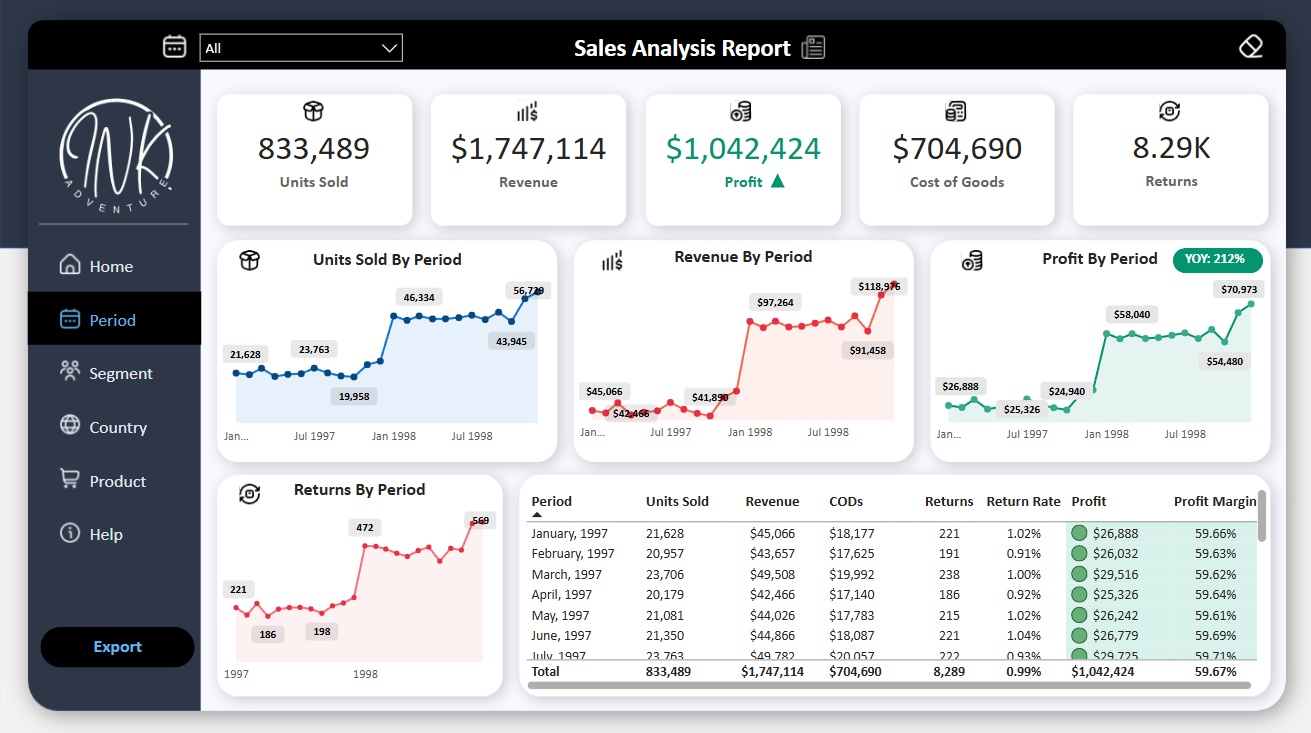

What the dashboard file says about the page in this screenshot:
{"tool":"powerbi","page":{"name":"Main page","canvas":[1280,720],"ordinal":0},"visuals":[{"type":"group","id":"g1","title":"Static grouping","box":[0,24.2,1236.4,474.7],"z":0},{"type":"card","title":"Unit Sold","fields":{"Values":["Measure.Quantity Sold"]},"box":[212.1,115.4,190.4,76.5],"z":0,"group":"g1"},{"type":"shape","box":[1142.4,242.9,88.2,24.6],"z":0,"group":"g4"},{"type":"actionButton","title":"Help","box":[28,495,168,50],"z":0,"group":"g2"},{"type":"card","title":"Revenue","fields":{"Values":["Measure.Total_revenue"]},"box":[420.2,115.9,191.8,76],"z":1000,"group":"g1"},{"type":"card","fields":{"Values":["Measure.YOY-profit_format"]},"box":[1139.5,235,86.8,41.9],"z":1000,"group":"g4"},{"type":"actionButton","title":"product","box":[28,442.8,167.8,49.8],"z":1000,"group":"g2"},{"type":"actionButton","title":"Export","box":[39.8,611.6,150.8,39.8],"z":1000},{"type":"card","title":"Profit","fields":{"Values":["Measure.Total-profit"]},"box":[629.7,115.1,189.2,76.8],"z":2000,"group":"g1"},{"type":"group","id":"g2","title":"Inactive buttons","box":[28,234,168,311],"z":2000},{"type":"actionButton","title":"Country","box":[28,390.7,167.8,49.8],"z":2000,"group":"g2"},{"type":"tableEx","title":"Period Table","fields":{"Values":["Calendar.month_year","Measure.Quantity Sold","Measure.Total_revenue","Measure.Total_cost","Measure.Total_returns","Measure.return_rate","Measure.Total-profit","Measure.Profit_margin"]},"box":[507,473,731,205.3],"z":2000,"group":"g4"},{"type":"card","title":"Total Returns","fields":{"Values":["Measure.Total_returns"]},"box":[1046,114,190.4,77.9],"z":3000,"group":"g1"},{"type":"group","id":"g3","title":"Active buttons","box":[28,234,169.1,311.6],"z":3000},{"type":"areaChart","title":"Profit By Period","fields":{"Category":["Calendar.Year","Calendar.Start of Month","Calendar.Start of Week","Calendar.Quarter"],"Y":["Measure.Total-profit"]},"box":[906.1,242.4,330.4,199.1],"z":3000,"group":"g4"},{"type":"actionButton","title":"Segment","box":[28,338.5,167.8,49.8],"z":3000,"group":"g2"},{"type":"slicer","fields":{"Values":["Calendar.Year"]},"box":[185.1,24.6,218.3,43.4],"z":4000},{"type":"card","title":"Total Cost","fields":{"Values":["Measure.Total_Cost"]},"box":[836.5,115.9,191.8,76],"z":4000,"group":"g1"},{"type":"actionButton","title":"Period","box":[28,286.4,167.8,49.8],"z":4000,"group":"g2"},{"type":"actionButton","title":"Active Period","box":[28,286.4,169.1,51.6],"z":4000,"group":"g3"},{"type":"areaChart","title":"Returns By Period","fields":{"Category":["Calendar.Year","Calendar.Start of Month","Calendar.Start of Week"],"Y":["Measure.Total_returns"]},"box":[212.6,467.1,276.2,208.2],"z":4000,"group":"g4"},{"type":"image","box":[0,24.2,230.4,260.3],"z":5000,"group":"g1"},{"type":"actionButton","box":[154.4,30.3,33.2,31.7],"z":5000},{"type":"actionButton","title":"Home","box":[28,234,168,50],"z":5000,"group":"g2"},{"type":"areaChart","title":"Revenue By Period","fields":{"Category":["Calendar.Year","Calendar.Start of Month","Calendar.Start of Week","Calendar.Quarter"],"Y":["Measure.Total_revenue"]},"box":[559.6,240,329.7,199.6],"z":5000,"group":"g4"},{"type":"shape","box":[38.6,203.9,146,31.4],"z":6000,"group":"g1"},{"type":"areaChart","title":"Units Sold By Period","fields":{"Category":["Calendar.Year","Calendar.Start of Month","Calendar.Start of Week","Calendar.Quarter"],"Y":["Measure.Quantity Sold"]},"box":[212.6,242.9,329.7,199.6],"z":6000,"group":"g4"},{"type":"actionButton","box":[291.4,93.8,32,32],"z":7000,"group":"g1"},{"type":"actionButton","box":[499.9,93.8,32,32],"z":8000,"group":"g1"},{"type":"actionButton","box":[708.4,93.8,32,32],"z":9000,"group":"g1"},{"type":"group","id":"g4","title":"Period View","box":[212.6,235,1025.4,443.3],"z":9000},{"type":"textbox","title":"report name","box":[554,27.4,246.7,40.4],"z":10000,"group":"g1"},{"type":"actionButton","box":[776.2,24.5,49.1,47.6],"z":11000},{"type":"actionButton","box":[916.9,93.8,32,32],"z":11000,"group":"g1"},{"type":"actionButton","box":[1201.6,22.9,48.3,47.1],"z":12000},{"type":"actionButton","box":[1125.4,93.8,32,32],"z":12000,"group":"g1"},{"type":"shape","box":[750.5,170.7,14.5,14.5],"z":13000,"group":"g1"},{"type":"actionButton","box":[229.9,240.1,33.3,31.8],"z":14000,"group":"g1"},{"type":"actionButton","box":[582,240.1,31.8,31.8],"z":15000,"group":"g1"},{"type":"actionButton","box":[932.7,240.1,31.8,31.8],"z":16000,"group":"g1"},{"type":"actionButton","box":[229.9,467.1,31.8,31.8],"z":17000,"group":"g1"}]}

Visuals, with their boxes in screenshot pixels (x1, y1, x2, y2), scaled from the page's 1280x720 canvas onto the 1311x733 screenshot:
"Static grouping" group: [0, 25, 1266, 508]
"Unit Sold" card: [217, 117, 412, 195]
shape: [1170, 247, 1260, 272]
"Help" actionButton: [29, 504, 201, 555]
"Revenue" card: [430, 118, 627, 195]
card - Measure.YOY-profit_format: [1167, 239, 1256, 282]
"product" actionButton: [29, 451, 201, 501]
"Export" actionButton: [41, 623, 195, 663]
"Profit" card: [645, 117, 839, 195]
"Inactive buttons" group: [29, 238, 201, 555]
"Country" actionButton: [29, 398, 201, 448]
"Period Table" tableEx: [519, 482, 1268, 691]
"Total Returns" card: [1071, 116, 1266, 195]
"Active buttons" group: [29, 238, 202, 555]
"Profit By Period" areaChart: [928, 247, 1266, 449]
"Segment" actionButton: [29, 345, 201, 395]
slicer - Calendar.Year: [190, 25, 413, 69]
"Total Cost" card: [857, 118, 1053, 195]
"Period" actionButton: [29, 292, 201, 342]
"Active Period" actionButton: [29, 292, 202, 344]
"Returns By Period" areaChart: [218, 476, 501, 687]
image: [0, 25, 236, 290]
actionButton: [158, 31, 192, 63]
"Home" actionButton: [29, 238, 201, 289]
"Revenue By Period" areaChart: [573, 244, 911, 448]
shape: [40, 208, 189, 240]
"Units Sold By Period" areaChart: [218, 247, 555, 450]
actionButton: [298, 95, 331, 128]
actionButton: [512, 95, 545, 128]
actionButton: [726, 95, 758, 128]
"Period View" group: [218, 239, 1268, 691]
"report name" textbox: [567, 28, 820, 69]
actionButton: [795, 25, 845, 73]
actionButton: [939, 95, 972, 128]
actionButton: [1231, 23, 1280, 71]
actionButton: [1153, 95, 1185, 128]
shape: [769, 174, 784, 189]
actionButton: [235, 244, 270, 277]
actionButton: [596, 244, 629, 277]
actionButton: [955, 244, 988, 277]
actionButton: [235, 476, 268, 508]
